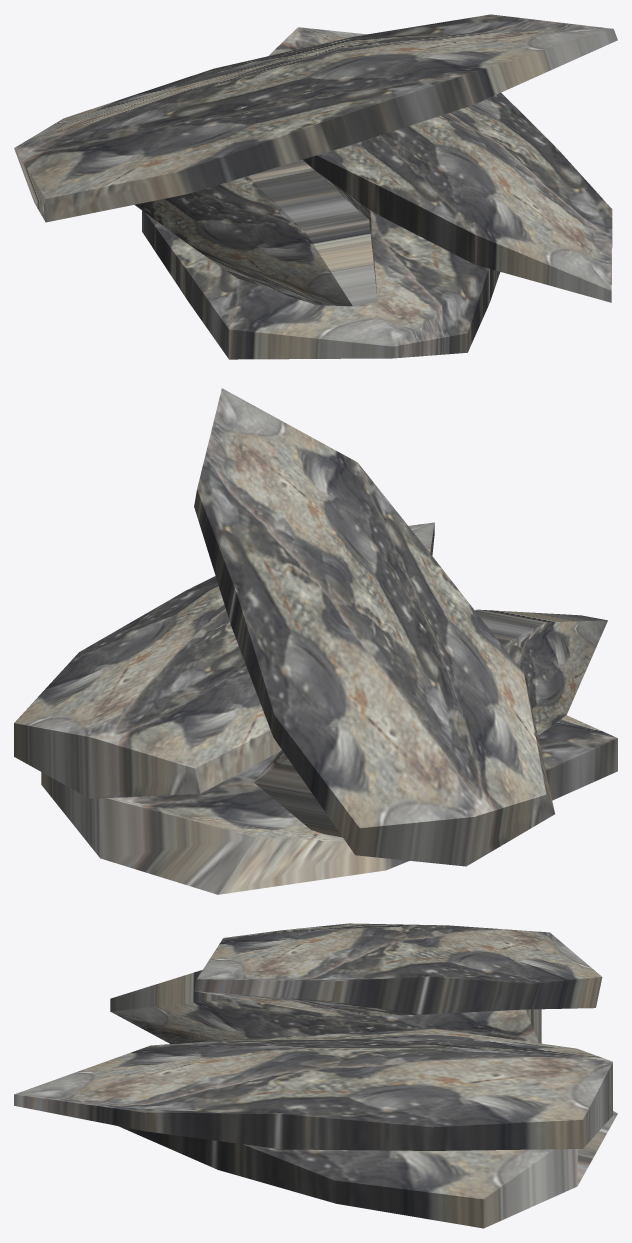
Rendered from flint.fbx.
3 renders of one model, top to bottom at view 1: azimuth 30°, elevation 25°; view 2: azimuth 150°, elevation 25°; view 3: azimuth 270°, elevation 25°, orthographic. The views are drawn at different scales.
Parts seen in each view (by area): view 1: pCube4, pCube2, pCube3, pCube1; view 2: pCube4, pCube2, pCube3, pCube1; view 3: pCube2, pCube4, pCube3, pCube1.
Part boxes in pixels (x1=…): pCube4: x1=14, y1=14, x2=617, y2=222; pCube2: x1=269, y1=27, x2=612, y2=302; pCube3: x1=142, y1=210, x2=500, y2=359; pCube1: x1=134, y1=159, x2=377, y2=306; pCube4: x1=194, y1=388, x2=554, y2=866; pCube2: x1=14, y1=522, x2=434, y2=798; pCube3: x1=41, y1=715, x2=617, y2=894; pCube1: x1=254, y1=609, x2=607, y2=837; pCube2: x1=14, y1=1028, x2=612, y2=1150; pCube4: x1=194, y1=923, x2=602, y2=1016; pCube3: x1=118, y1=1111, x2=617, y2=1228; pCube1: x1=110, y1=970, x2=541, y2=1043.
Bounding box in the file's own units: 2.66 × 1.58 × 3.23.
1 material, 1 textured.
